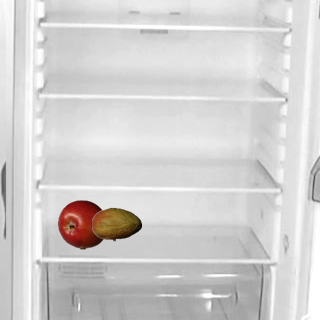Apple Braeburn: (57, 199, 107, 249)
Papaya: (91, 199, 141, 249)
